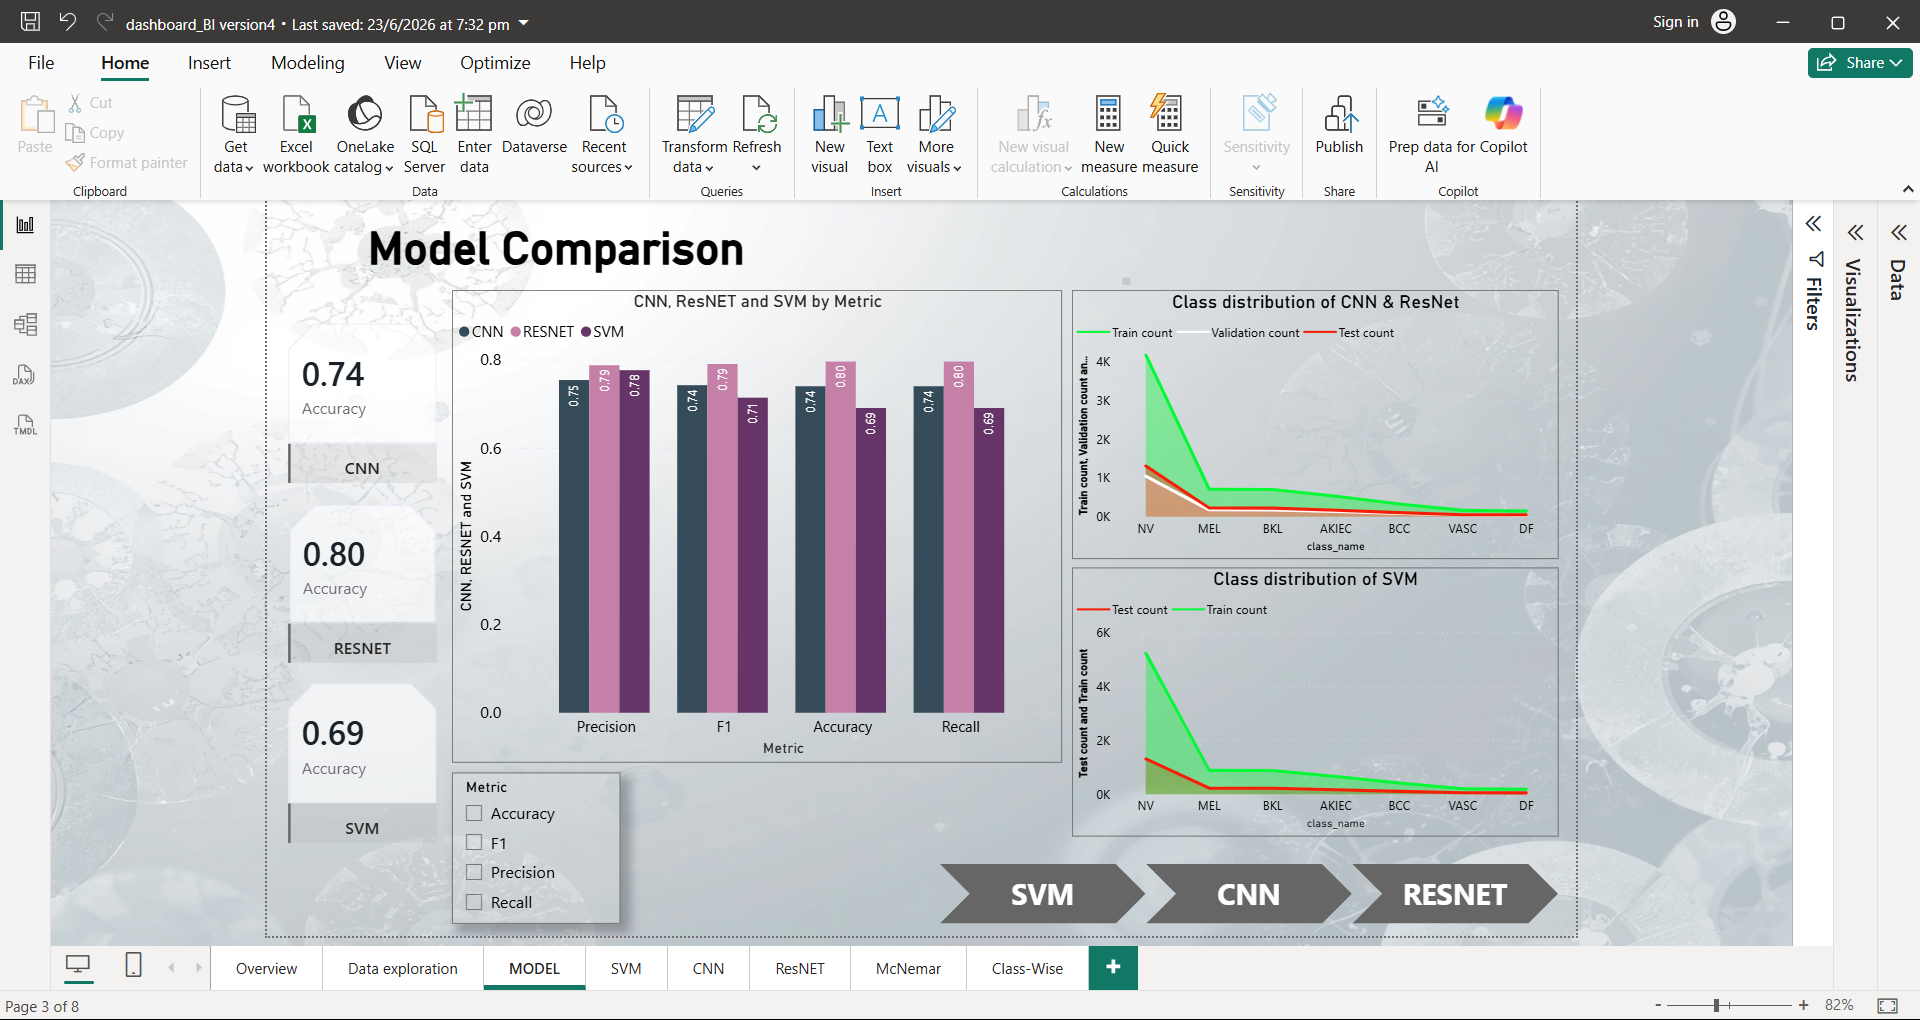

This screenshot's page, from the dashboard's own definition file:
{"tool":"powerbi","page":{"name":"MODEL","canvas":[1280,720],"ordinal":2},"visuals":[{"type":"slicer","fields":{"Values":["combined_summary_metrics.Metric"]},"box":[181,560.1,165.1,148],"z":0},{"type":"clusteredColumnChart","title":"CNN, ResNET and SVM by Metric","fields":{"Category":["combined_summary_metrics.Metric1"],"Y":["Sum(combined_summary_metrics.CNN)1","Sum(combined_summary_metrics.RESNET)1","Sum(combined_summary_metrics.SVM)1"]},"box":[181,88,596.7,462.2],"z":1000},{"type":"textbox","title":"Model Comparison","box":[94.2,20.8,755.7,67.3],"z":2000},{"type":"shape","box":[859.7,649.3,201.8,58.7],"z":3000},{"type":"areaChart","title":"Class distribution of CNN & ResNet","fields":{"Category":["cnn_class_distribution.class_name"],"Y":["Sum(cnn_class_distribution.train_count)","Sum(cnn_class_distribution.validation_count)","Sum(cnn_class_distribution.test_count)"]},"box":[787.5,88,475.7,262.9],"z":4000},{"type":"cardVisual","fields":{"Data":["Sum(combined_model_scores.Accuracy)"],"Rows":["combined_model_scores.models"]},"box":[15.9,88,155.3,567.4],"z":5000},{"type":"areaChart","title":"Class distribution of SVM","fields":{"Y":["Sum(svm_class_distribution.test_count)","Sum(svm_class_distribution.train_count)"],"Category":["svm_class_distribution.class_name"]},"box":[787.5,359.5,475.7,262.9],"z":6000},{"type":"shape","box":[657.9,649.3,201.8,58.7],"z":7000},{"type":"shape","box":[1061.4,649.3,201.8,58.7],"z":8000}]}

Visuals, with their boxes on the page's 1280x720 design canvas (x1, y1, x2, y2). These are canvas units, not pixel positions in the 1920x1020 screenshot, which may show the page scaled, cropped or inside an application window:
slicer - combined_summary_metrics.Metric: bbox=(181, 560, 346, 708)
"CNN, ResNET and SVM by Metric" clusteredColumnChart: bbox=(181, 88, 778, 550)
"Model Comparison" textbox: bbox=(94, 21, 850, 88)
shape: bbox=(860, 649, 1062, 708)
"Class distribution of CNN & ResNet" areaChart: bbox=(788, 88, 1263, 351)
cardVisual - Sum(combined_model_scores.Accuracy) x combined_model_scores.models: bbox=(16, 88, 171, 655)
"Class distribution of SVM" areaChart: bbox=(788, 360, 1263, 622)
shape: bbox=(658, 649, 860, 708)
shape: bbox=(1061, 649, 1263, 708)
